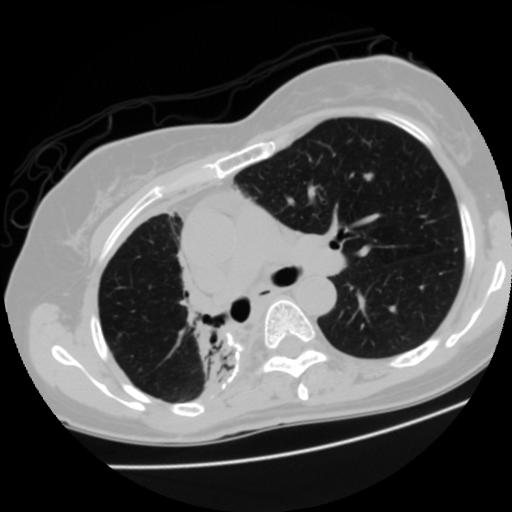nodule: (359, 167, 377, 185)
